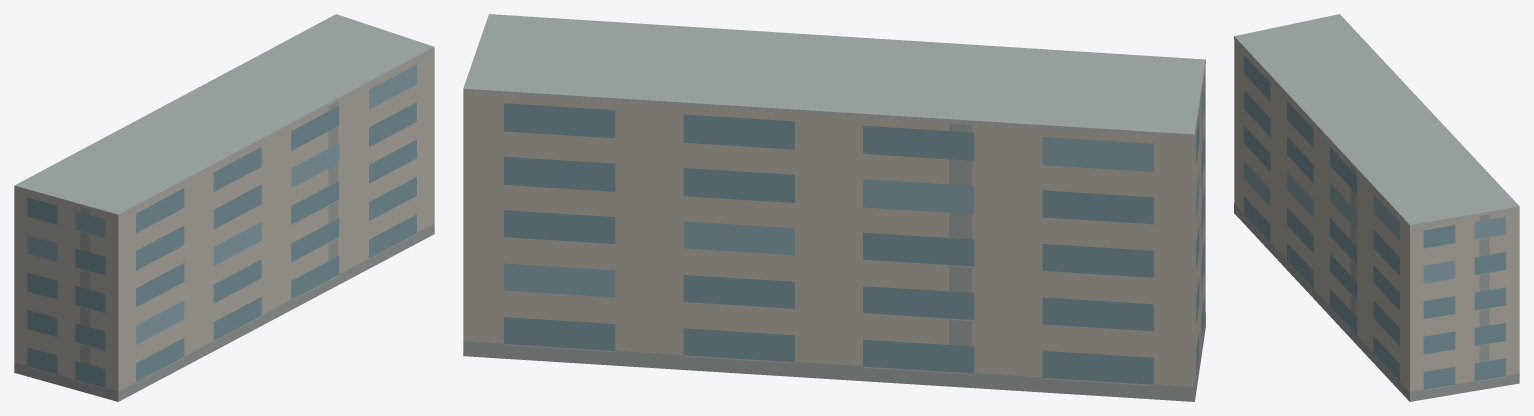
Rendered from survey-upis-32856774.glb.
3 views of the same model, side by side, from view 1: azimuth 30°, elevation 25°; view 2: azimuth 150°, elevation 25°; view 3: azimuth 270°, elevation 25° (orthographic). The views are drawn at different scales.
Visible parts, largest first — view 1: survey-upis-32856774.tmp; view 2: survey-upis-32856774.tmp; view 3: survey-upis-32856774.tmp.
Part boxes in pixels (box(x1,y1,x2,y2)): survey-upis-32856774.tmp: box(14, 14, 434, 401); survey-upis-32856774.tmp: box(463, 14, 1205, 401); survey-upis-32856774.tmp: box(1234, 14, 1519, 401).
Size of the model in its own units: 38.98 by 15.25 by 22.31.
